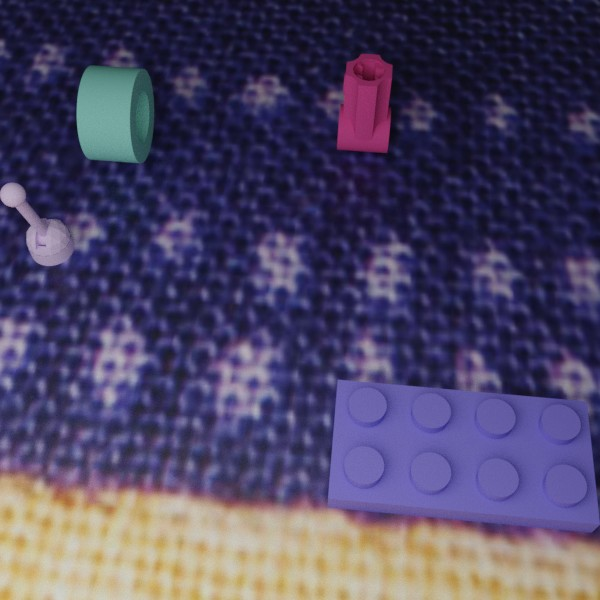30028: (76, 65, 154, 163)
3020: (327, 379, 599, 532)
32014: (337, 53, 392, 153)
4592c02: (0, 182, 74, 265)
